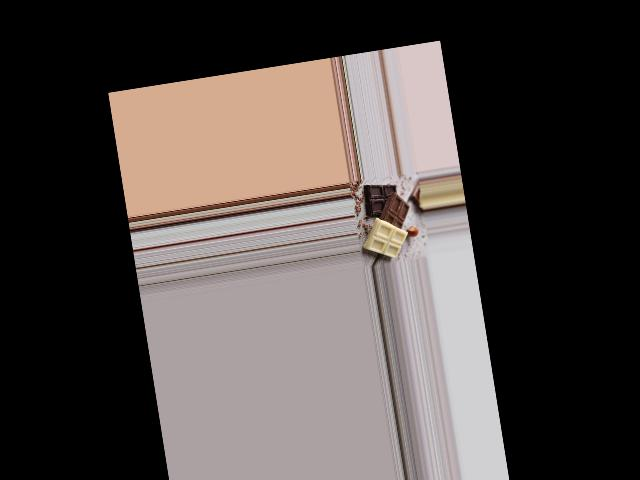chocolate: (357, 175, 417, 261)
